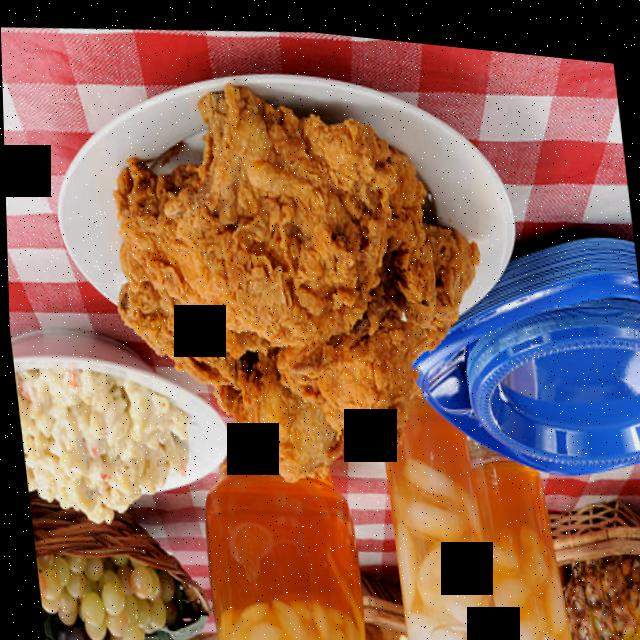Frango: (89, 55, 508, 516)
